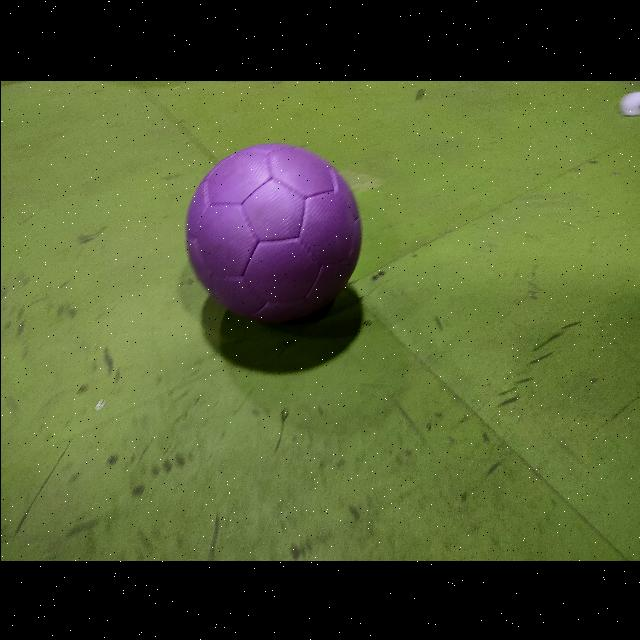P: (186, 143, 360, 321)
